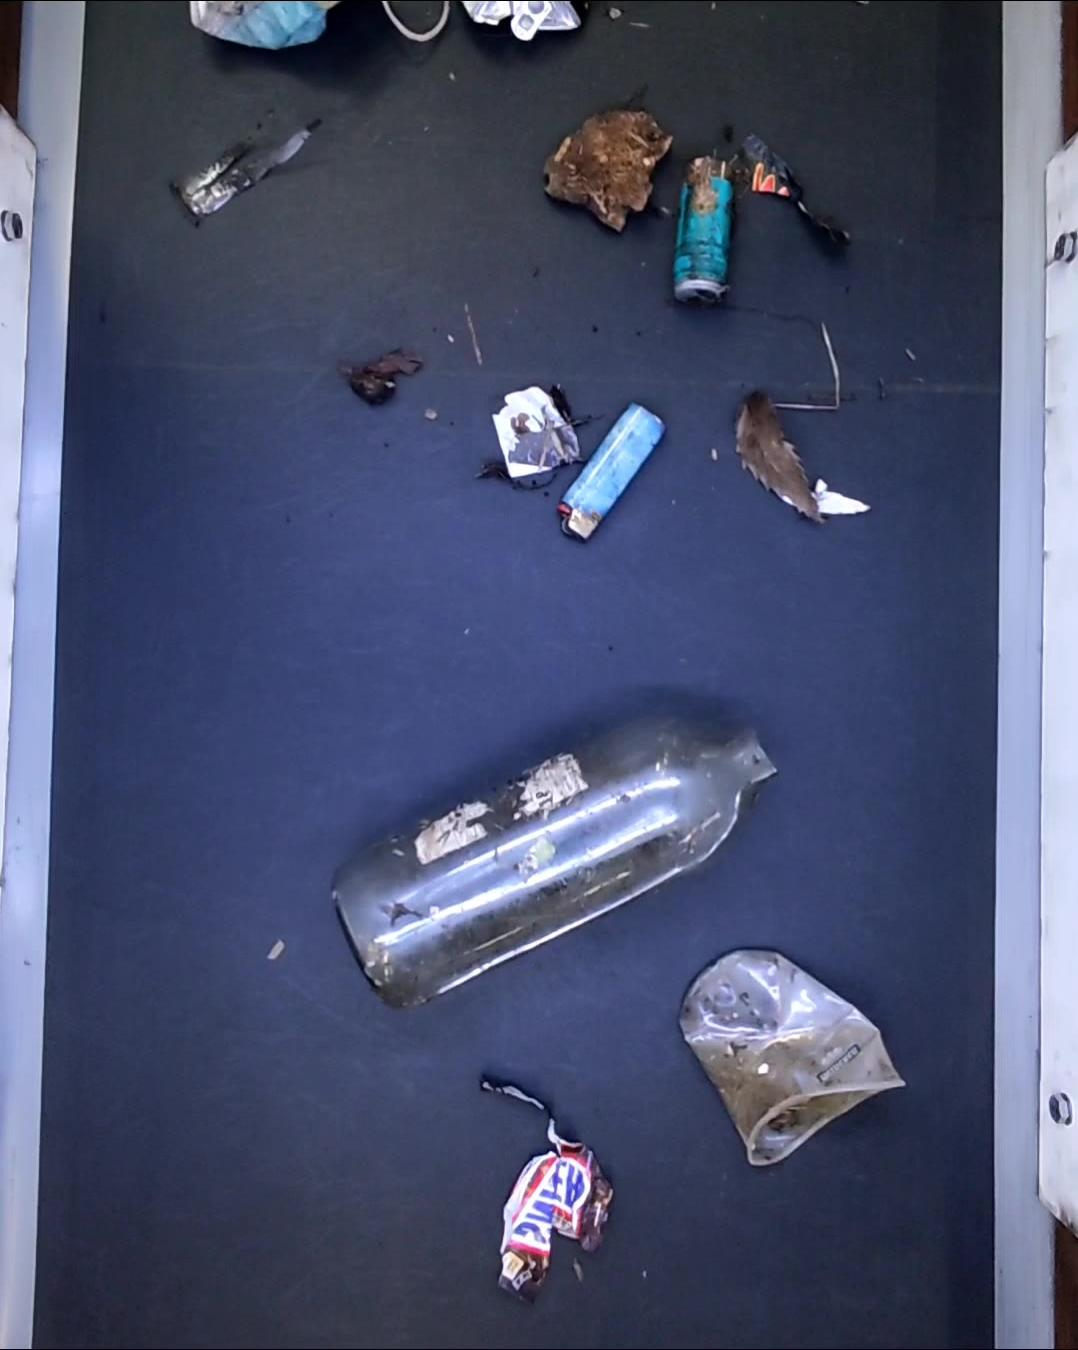Snoep snack en chips verpakkingen: (484, 1073, 617, 1306), (726, 132, 856, 250)
